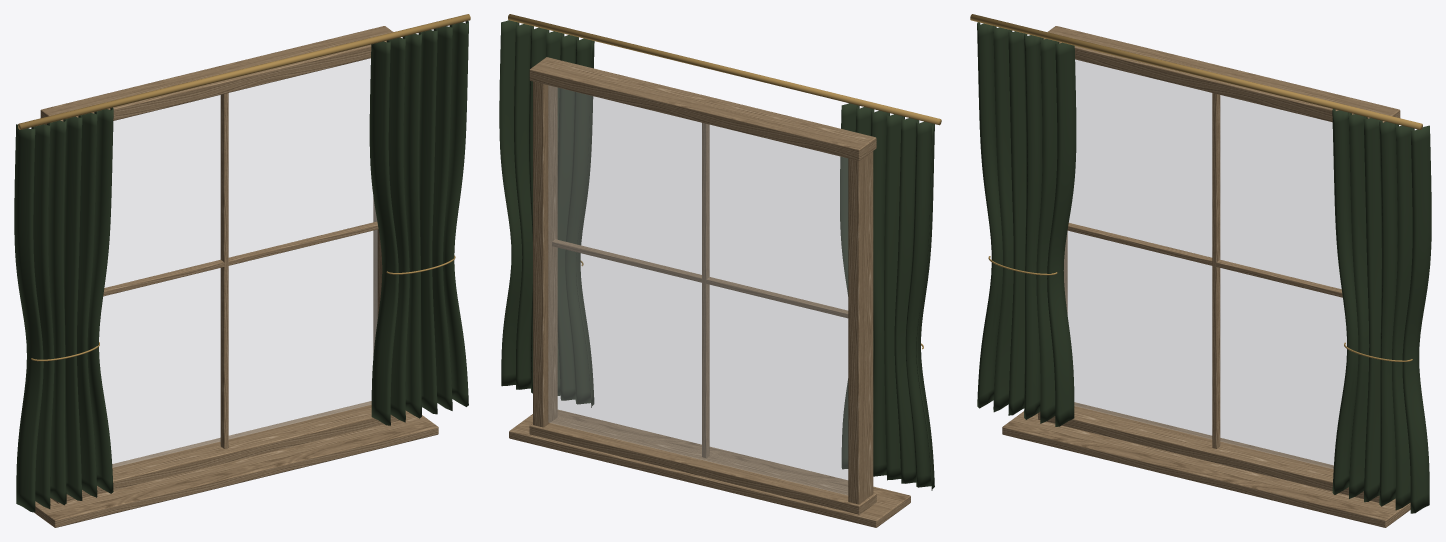
File: poker-window.glb
The picture shows the model from 3 angles, left to right: view 1: azimuth 30°, elevation 25°; view 2: azimuth 150°, elevation 25°; view 3: azimuth 330°, elevation 25°; orthographic projection. The views are drawn at different scales.
Parts seen in each view (by area): view 1: poker-window - Poker clear cut crystal runtime alpha, poker-window - Poker olive woven drapery, poker-window - Poker olive woven drapery.001, poker-window - Poker satin walnut joinery, poker-window - Poker aged satin brass; view 2: poker-window - Poker clear cut crystal runtime alpha, poker-window - Poker satin walnut joinery, poker-window - Poker olive woven drapery, poker-window - Poker olive woven drapery.001, poker-window - Poker aged satin brass; view 3: poker-window - Poker clear cut crystal runtime alpha, poker-window - Poker olive woven drapery.001, poker-window - Poker olive woven drapery, poker-window - Poker satin walnut joinery, poker-window - Poker aged satin brass.
Boxes of the visible parts, box(x1,y1,x2,y2) form: poker-window - Poker clear cut crystal runtime alpha: box(99, 58, 377, 467); poker-window - Poker olive woven drapery: box(14, 107, 113, 512); poker-window - Poker olive woven drapery.001: box(369, 21, 468, 425); poker-window - Poker satin walnut joinery: box(34, 26, 438, 527); poker-window - Poker aged satin brass: box(18, 14, 470, 361); poker-window - Poker clear cut crystal runtime alpha: box(548, 85, 847, 495); poker-window - Poker satin walnut joinery: box(509, 57, 910, 527); poker-window - Poker olive woven drapery: box(840, 103, 934, 490); poker-window - Poker olive woven drapery.001: box(499, 20, 594, 407); poker-window - Poker aged satin brass: box(508, 14, 941, 349); poker-window - Poker clear cut crystal runtime alpha: box(1064, 59, 1346, 468); poker-window - Poker olive woven drapery.001: box(1332, 108, 1431, 513); poker-window - Poker olive woven drapery: box(977, 22, 1076, 426); poker-window - Poker satin walnut joinery: box(1002, 26, 1410, 527); poker-window - Poker aged satin brass: box(970, 14, 1422, 275).
Size of the model in its own units: 1.73 by 1.5 by 0.2549.
Materials: 6 (1 with a texture image).
